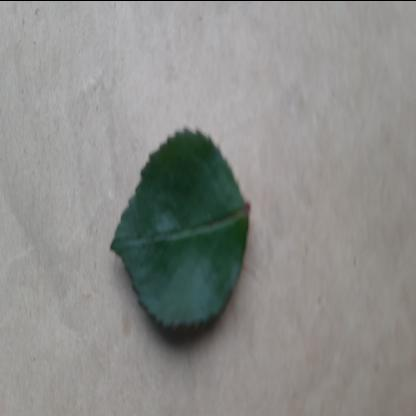normal: (105, 114, 251, 338)
